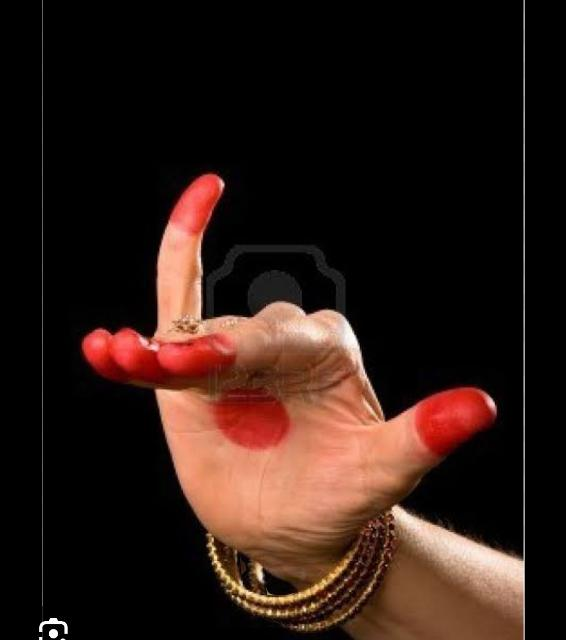mrighasheesh: (81, 175, 522, 640)
